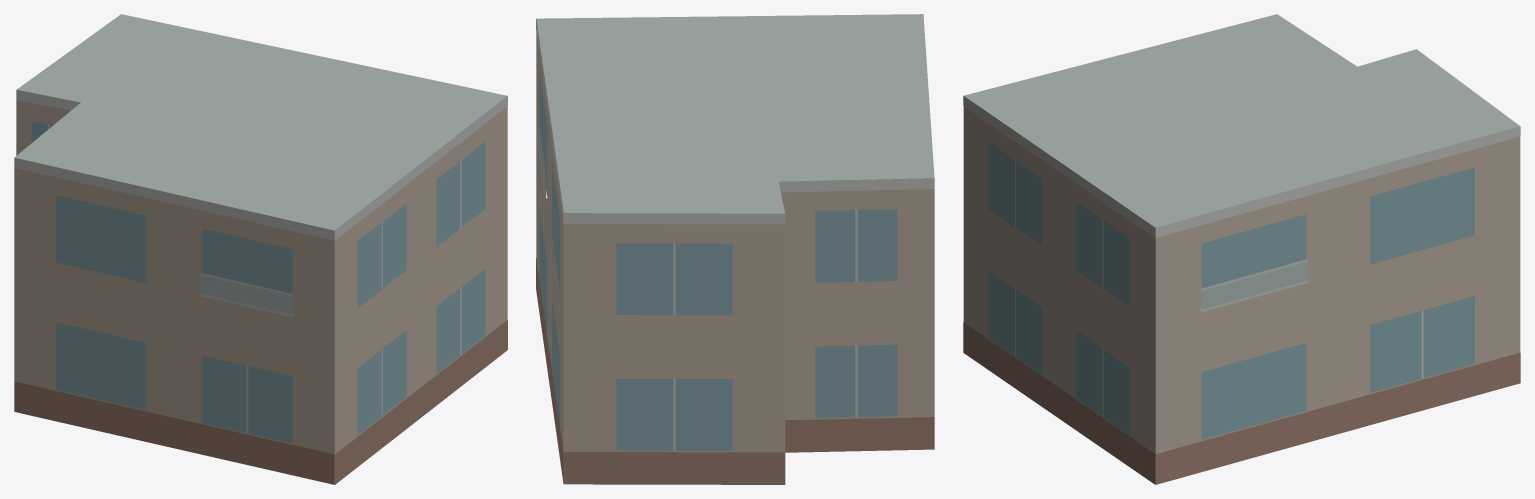
The model's file is survey-upis-32703276.glb.
3 renders of one model, left to right at view 1: azimuth 30°, elevation 25°; view 2: azimuth 150°, elevation 25°; view 3: azimuth 270°, elevation 25°, orthographic. The views are drawn at different scales.
Visible parts, largest first — view 1: survey-upis-32703276.tmp; view 2: survey-upis-32703276.tmp; view 3: survey-upis-32703276.tmp.
Part boxes in pixels (x1=…): survey-upis-32703276.tmp: x1=14, y1=14, x2=507, y2=484; survey-upis-32703276.tmp: x1=536, y1=14, x2=934, y2=484; survey-upis-32703276.tmp: x1=963, y1=14, x2=1520, y2=484.
Bounding box in the file's own units: 10.89 × 6.1 × 11.99.
